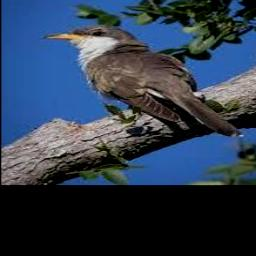Cuckoo: (42, 26, 243, 138)
